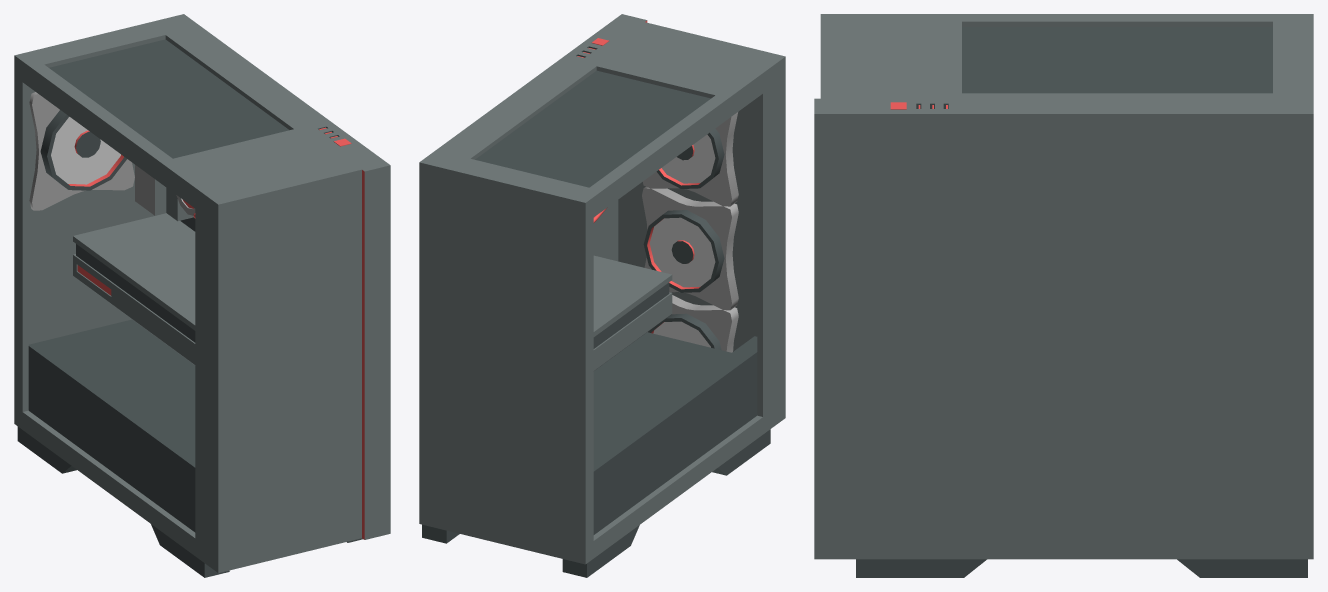
The picture shows the model from 3 angles, left to right: view 1: azimuth 30°, elevation 25°; view 2: azimuth 150°, elevation 25°; view 3: azimuth 270°, elevation 25°; orthographic projection. The views are drawn at different scales.
Visible parts, largest first — view 1: computer, teamColor; view 2: computer, teamColor; view 3: computer.
Part boxes in pixels (box(x1,y1,x2,y2)): computer: box(14, 14, 390, 577); teamColor: box(68, 127, 364, 539); computer: box(419, 14, 785, 577); teamColor: box(577, 20, 700, 333); computer: box(814, 14, 1313, 577).
Bounding box in the file's own units: 2.27 × 4.93 × 4.8.
Materials: 2 (1 with a texture image).
